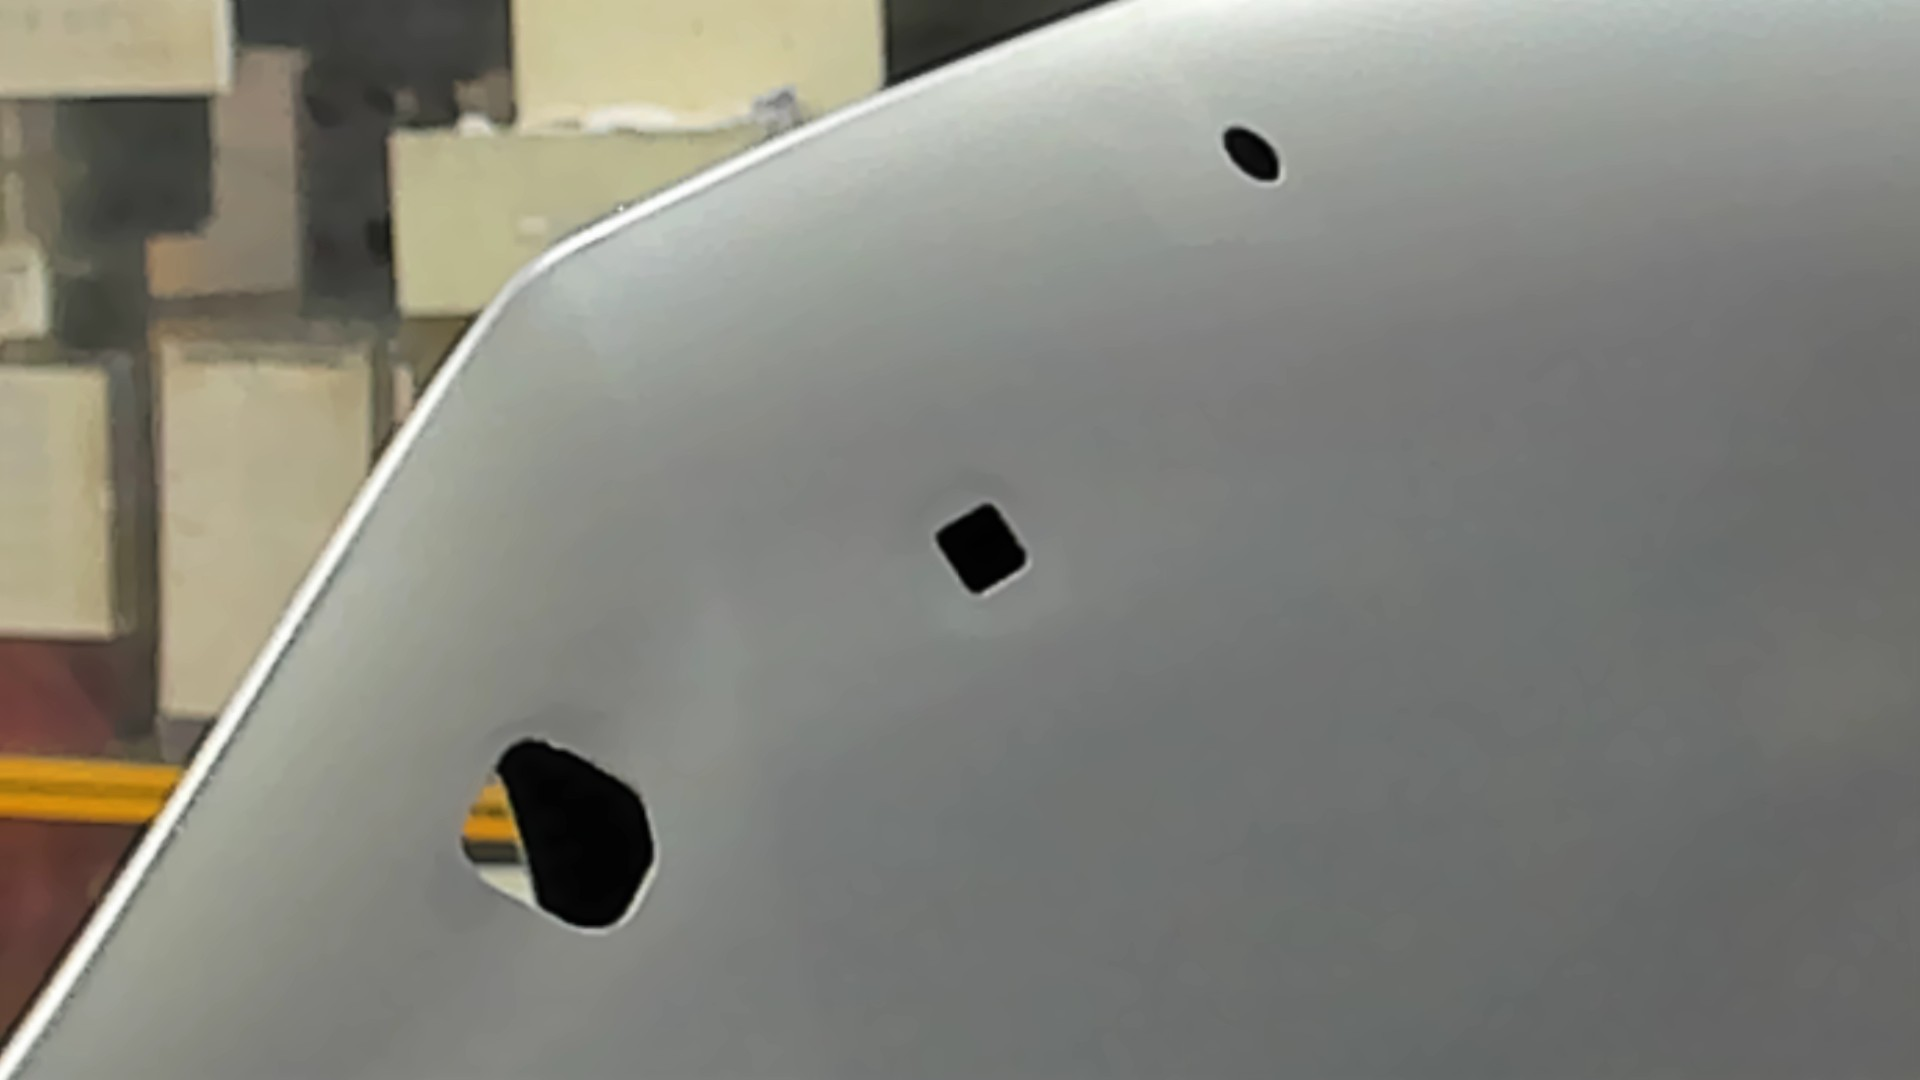chico: (1218, 123, 1284, 185)
grande: (456, 737, 663, 940)
mediano: (934, 498, 1033, 599)
